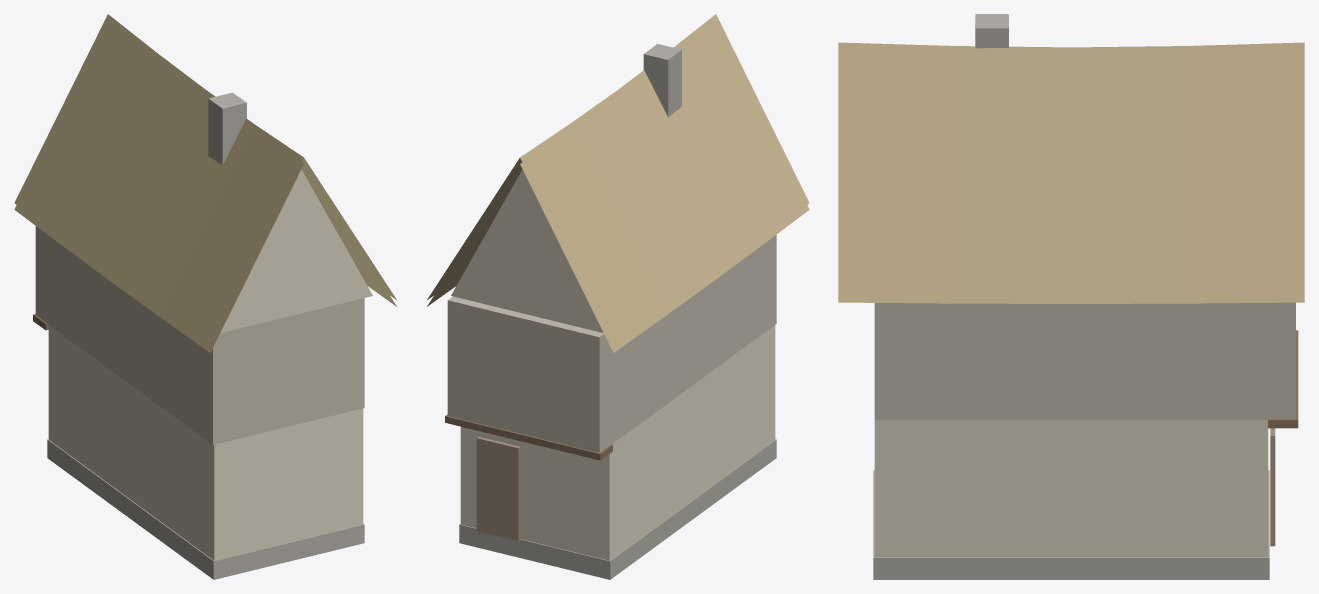
The model's file is house_narrow_b_lod1.glb.
The picture shows the model from 3 angles, left to right: view 1: azimuth 30°, elevation 25°; view 2: azimuth 150°, elevation 25°; view 3: azimuth 270°, elevation 25°; orthographic projection. The views are drawn at different scales.
Parts seen in each view (by area): view 1: house_narrow_b_lod1; view 2: house_narrow_b_lod1; view 3: house_narrow_b_lod1.
Boxes of the visible parts, x1,y1,x2,y2 form: house_narrow_b_lod1: [14, 14, 397, 579]; house_narrow_b_lod1: [426, 14, 809, 579]; house_narrow_b_lod1: [838, 14, 1304, 579].
Size of the model in its own units: 4.22 by 9.2 by 7.65.
